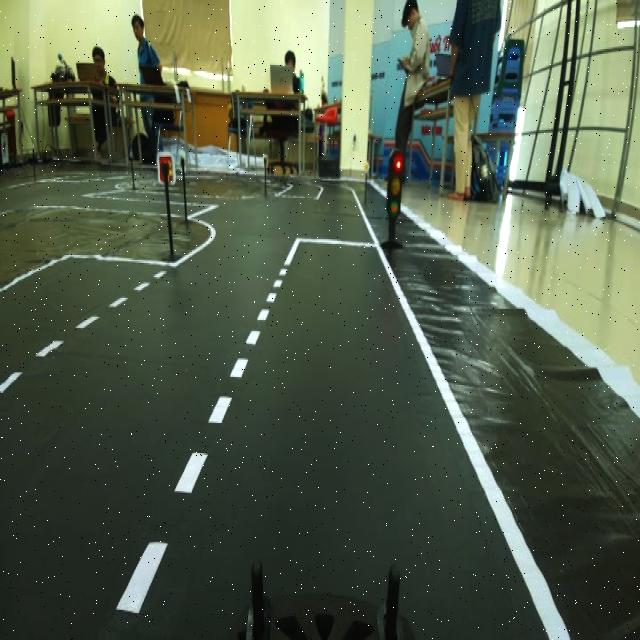trafficlight: (377, 140, 411, 273)
